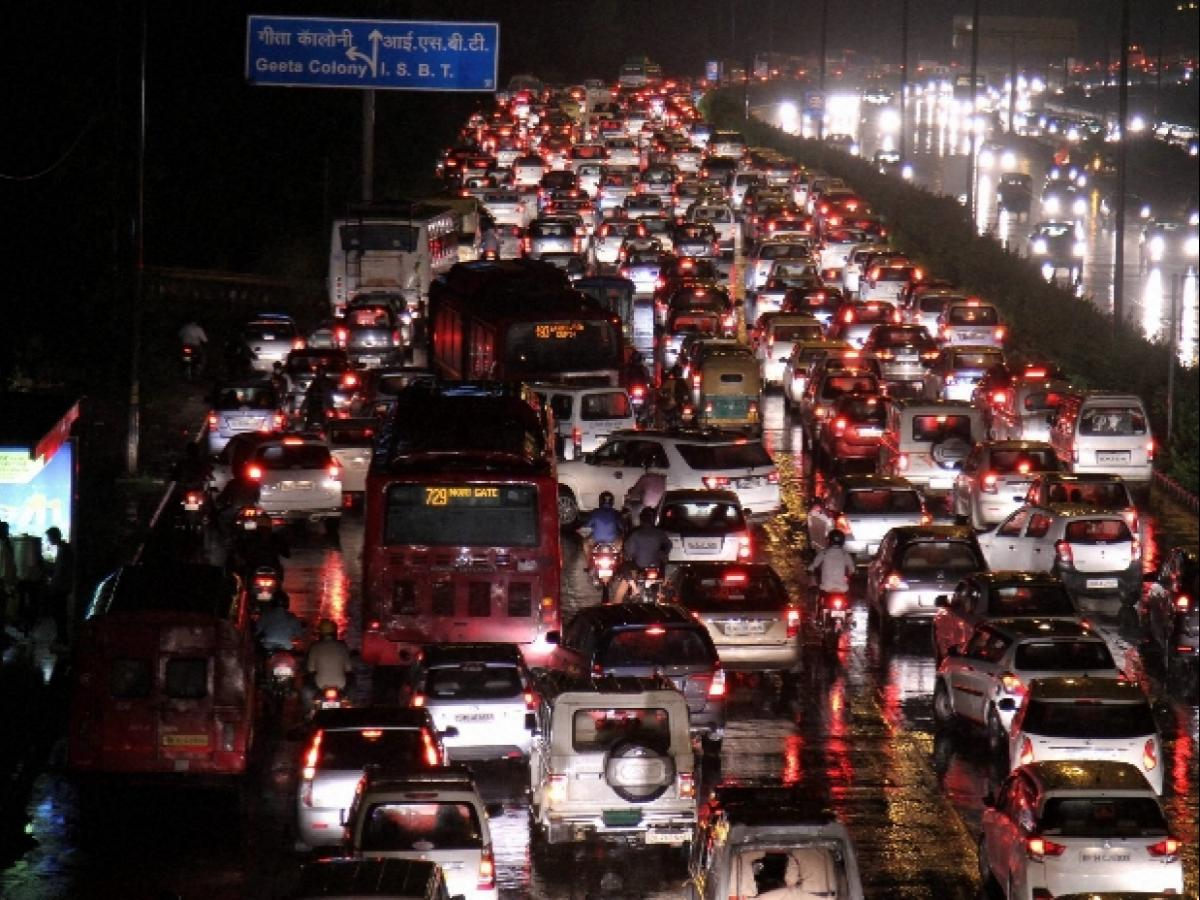bike: (798, 521, 864, 645), (580, 493, 644, 593)
bus: (364, 394, 553, 659), (81, 571, 260, 785), (421, 265, 630, 388), (323, 184, 486, 300)
car: (532, 677, 686, 869), (962, 763, 1194, 890), (562, 412, 772, 507), (687, 768, 836, 900), (557, 599, 734, 707), (930, 618, 1118, 718), (1010, 673, 1175, 786), (286, 705, 435, 822), (417, 628, 531, 775), (644, 561, 802, 659), (1041, 366, 1160, 496), (197, 424, 351, 513), (987, 498, 1142, 584), (854, 518, 987, 601), (884, 388, 991, 485), (796, 467, 912, 540), (944, 285, 1002, 358)
rickshaw: (678, 323, 767, 442)
